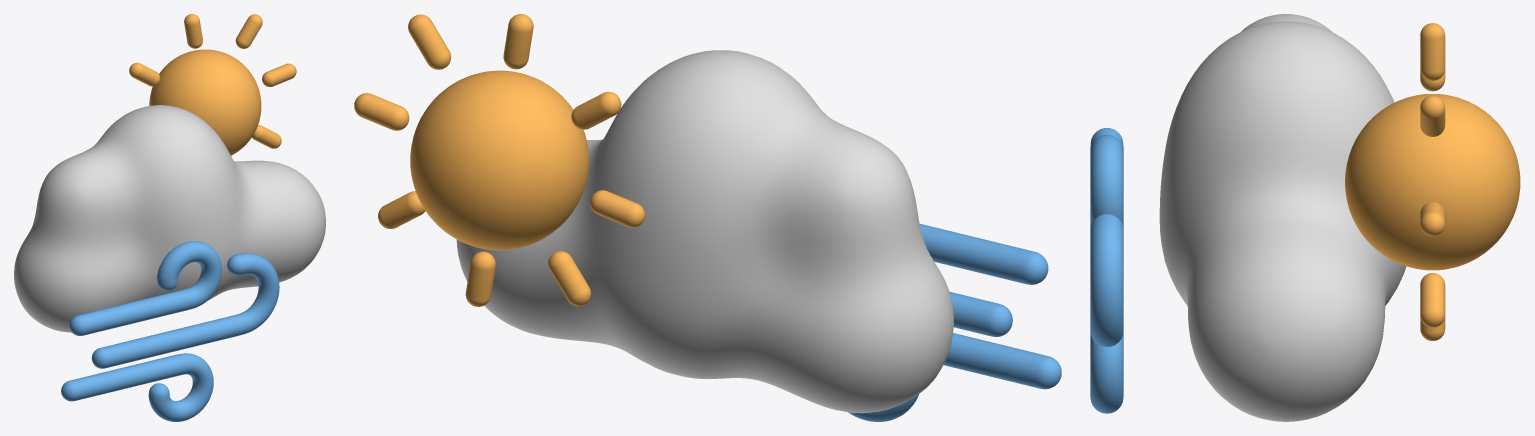
The model's file is windy-day.glb.
3 renders of one model, left to right at view 1: azimuth 30°, elevation 25°; view 2: azimuth 150°, elevation 25°; view 3: azimuth 270°, elevation 25°, orthographic. The views are drawn at different scales.
Visible parts, largest first — view 1: 0025; view 2: 0025; view 3: 0025.
Part boxes in pixels (x1,y1,x2,y2): 0025: (14,14,325,421); 0025: (354,14,1061,421); 0025: (1090,14,1520,421).
Bounding box in the file's own units: 2.67 × 2.28 × 1.88.
